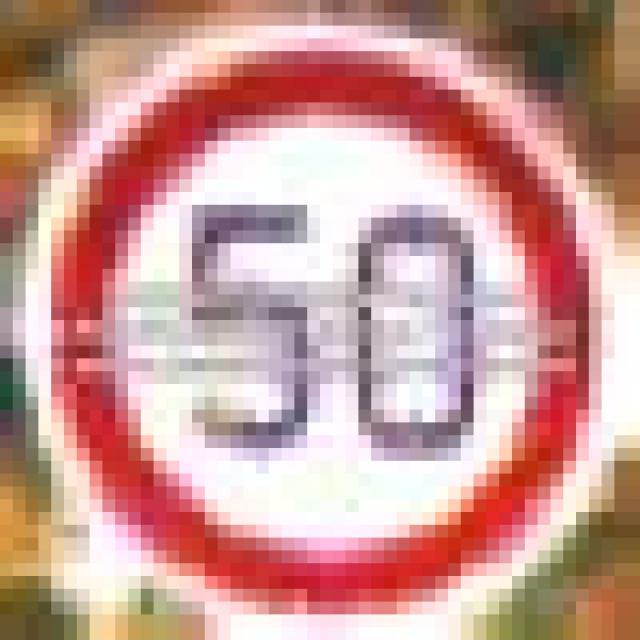SPEED_LIMIT_50: (51, 38, 576, 589)
